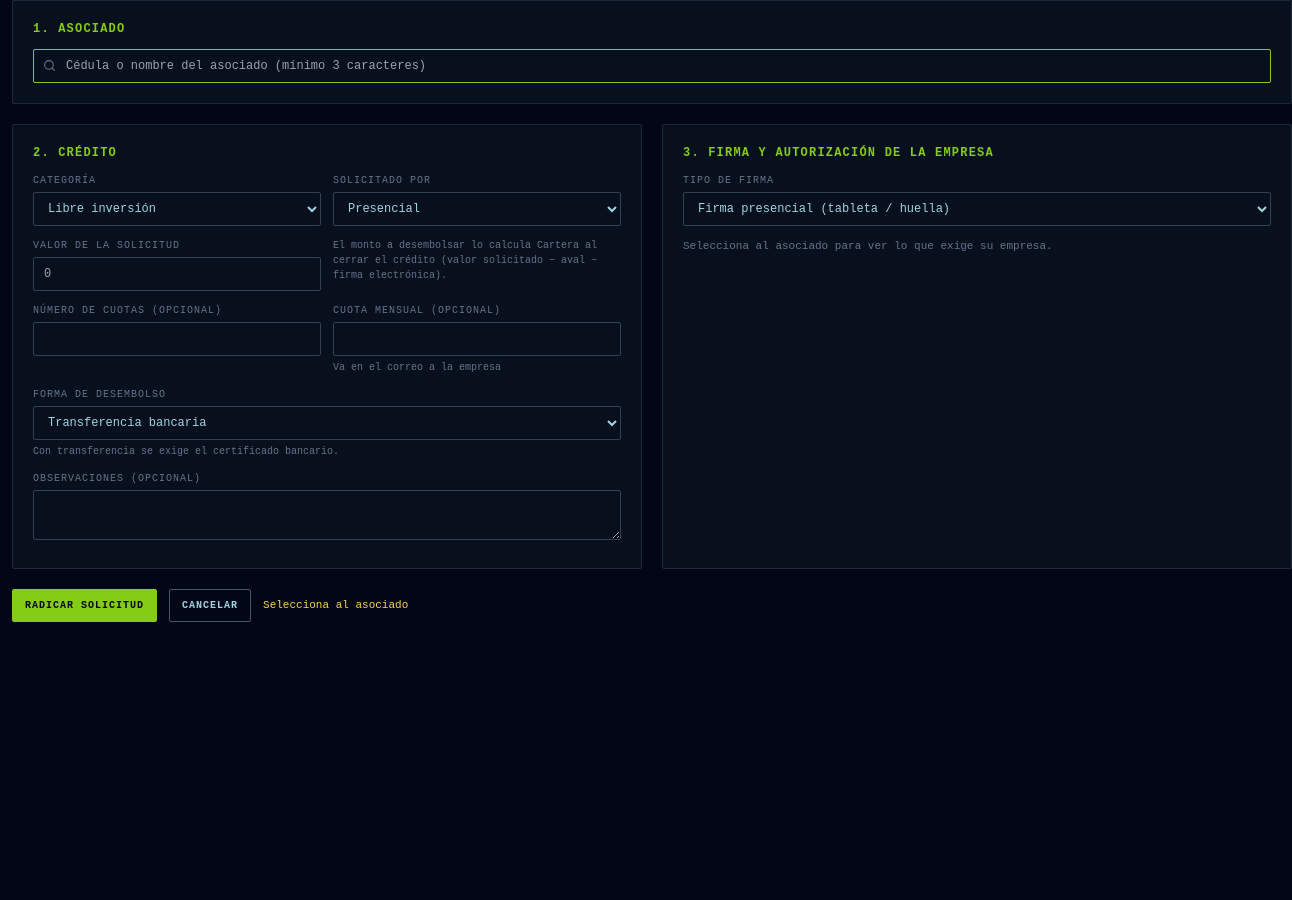
Test case: Nueva solicitud — asociado › política de la empresa: pide la firma primero
Type "ANA" into the field named "Buscar asociado" at x=652, y=66, box 33,49 -> 1271,83
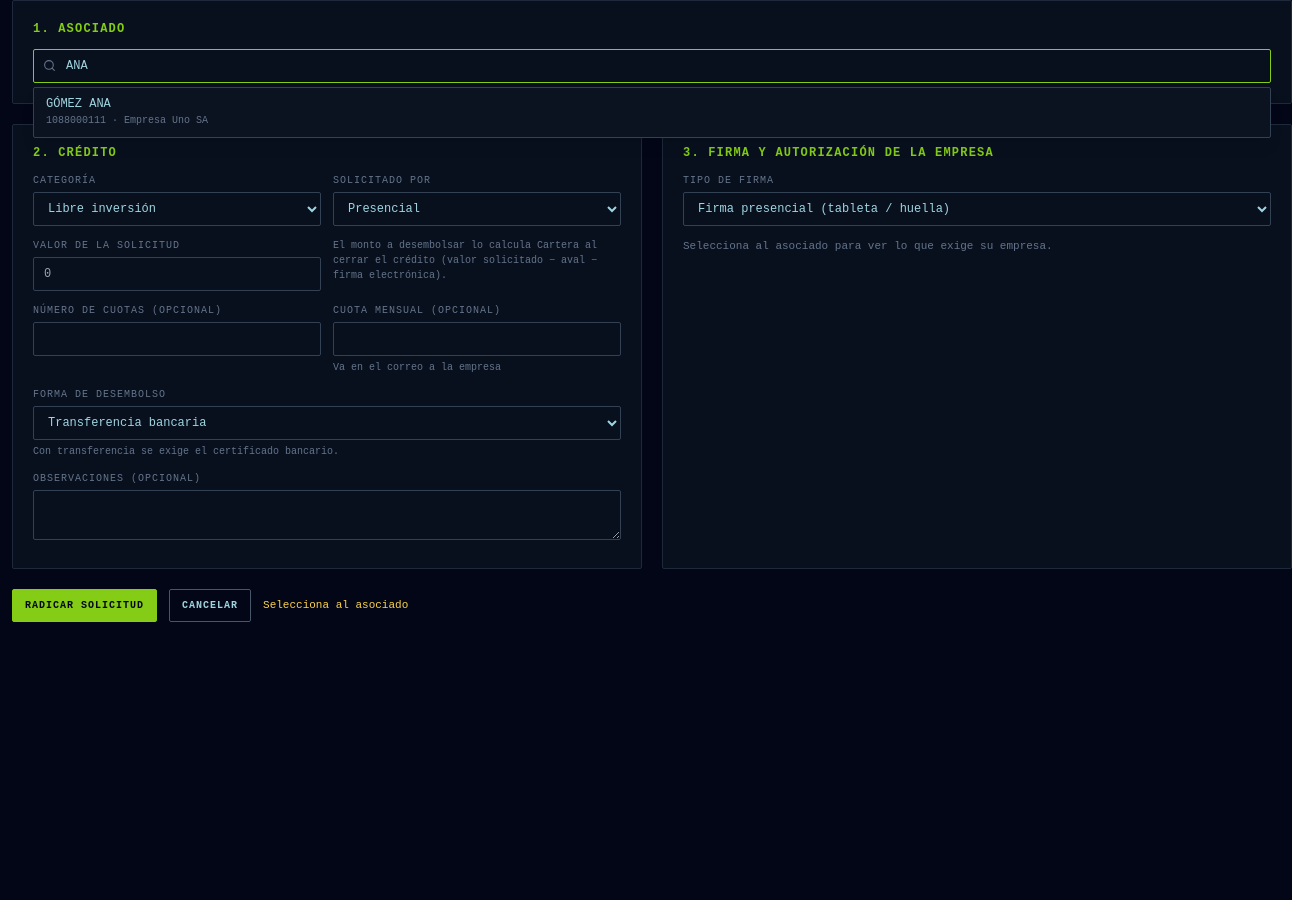
Click the button "GÓMEZ ANA 1088000111 · Empresa Uno SA" at x=64, y=104, box 34,88 -> 1270,137
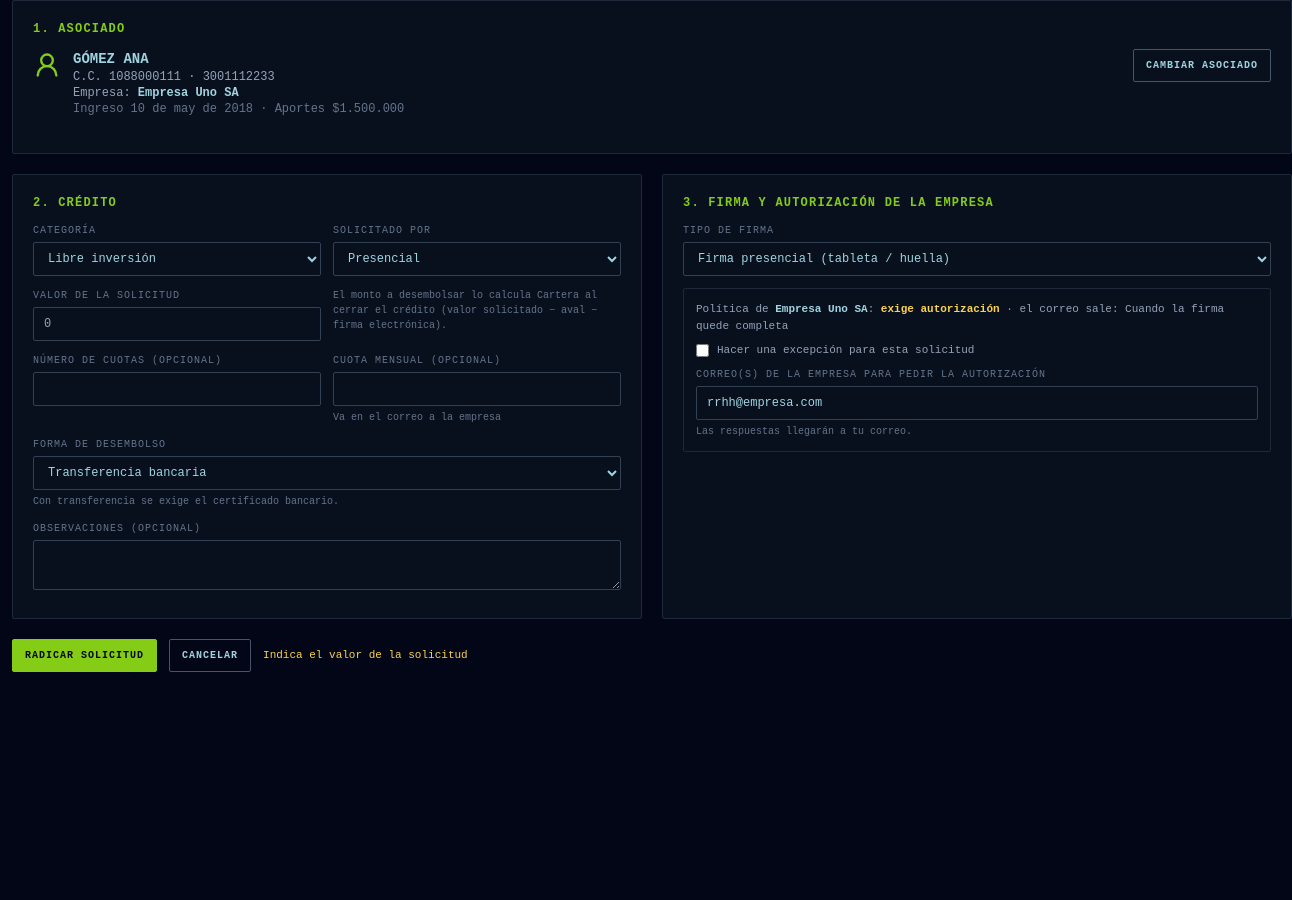
Check: the button "CAMBIAR ASOCIADO" is shown, box 1133,49 -> 1271,82
Check: the text "Cuando la firma quede completa" is shown, box 696,303 -> 1224,332
